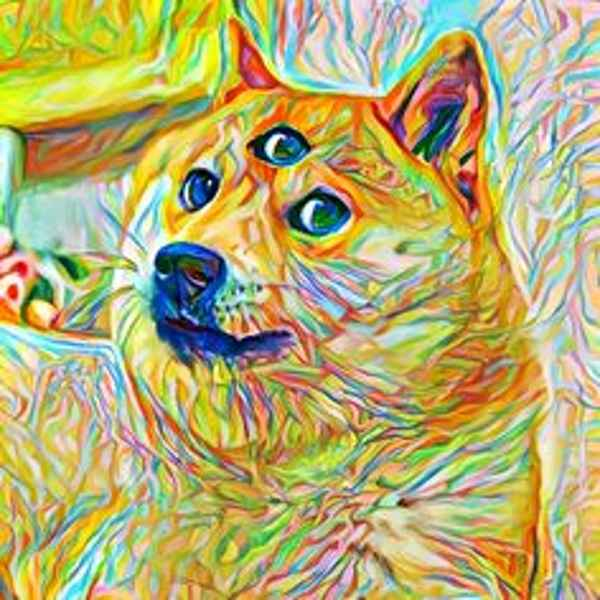doge: (109, 16, 509, 474)
